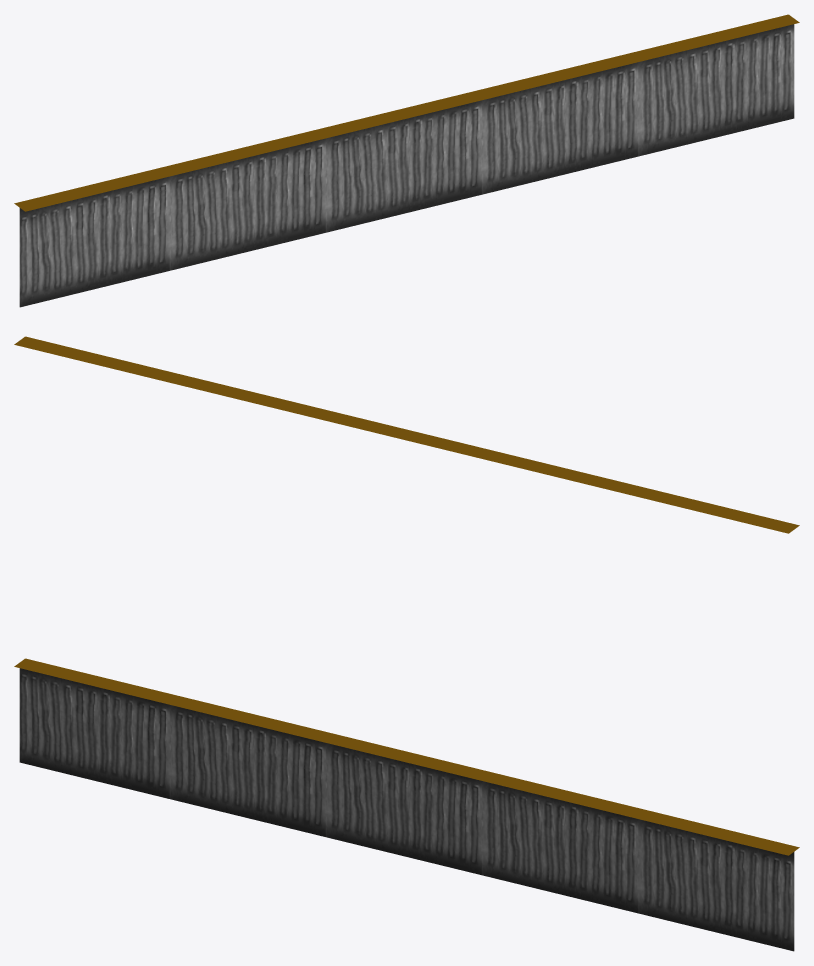
The model's file is Geländer4Hoch [Wellblech]_1571.glb.
The picture shows the model from 3 angles, top to bottom: view 1: azimuth 30°, elevation 25°; view 2: azimuth 150°, elevation 25°; view 3: azimuth 330°, elevation 25°; orthographic projection.
Parts seen in each view (by area): view 1: pPlaneShape223, pPlaneShape224; view 2: pPlaneShape224; view 3: pPlaneShape223, pPlaneShape224.
Part boxes in pixels (x1,y1,x2,y2): pPlaneShape223: [19, 24, 794, 307]; pPlaneShape224: [14, 14, 799, 211]; pPlaneShape224: [14, 336, 799, 533]; pPlaneShape223: [19, 668, 794, 951]; pPlaneShape224: [14, 658, 799, 855].
Size of the model in its own units: 0.9614 by 0.1185 by 0.0243.
Materials: 2 (1 with a texture image).
